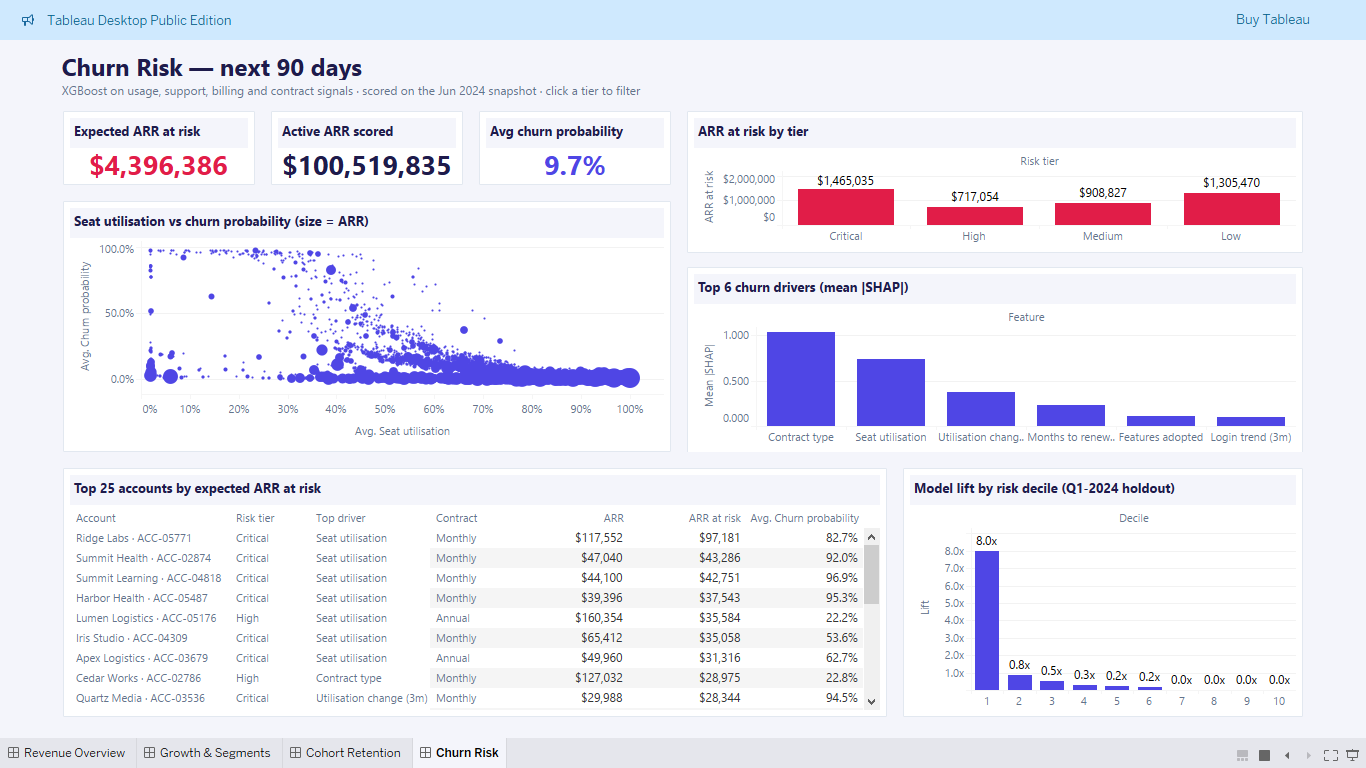

What the dashboard file says about the page in this screenshot:
{"tool":"tableau","page":{"name":"Churn Risk","canvas":[1280,690],"ordinal":3},"visuals":[{"type":"text","box":[16,7.7,900,28.8]},{"type":"text","box":[16,36.4,900,21.1]},{"type":"worksheet","title":"Risk ARR at risk","mark":"Text","box":[16,63.3,200,82.4]},{"type":"worksheet","title":"Risk active ARR","mark":"Text","box":[224,63.3,200,82.4]},{"type":"worksheet","title":"Risk avg prob","mark":"Text","box":[432,63.3,200,82.4]},{"type":"worksheet","title":"Risk by tier","mark":"Bar","rows":["arr_at_risk"],"cols":["risk_tier"],"box":[640,63.3,624,149.5]},{"type":"worksheet","title":"Utilisation vs risk","mark":"Circle","rows":["churn_probability"],"cols":["seat_utilisation"],"box":[16,153.3,616,258.8]},{"type":"worksheet","title":"Top churn drivers","mark":"Bar","rows":["mean_abs_shap"],"cols":["feature"],"box":[640,218.5,624,193.6]},{"type":"worksheet","title":"Accounts to save","mark":"Text","rows":["Account label","risk_tier","driver_1","contract_type"],"box":[16,419.7,832,256.8]},{"type":"worksheet","title":"Model lift","mark":"Bar","rows":["lift"],"cols":["bucket"],"box":[856,419.7,408,256.8]}]}

Visuals, with their boxes on the page's 1280x690 design canvas (x1, y1, x2, y2). These are canvas units, not pixel positions in the 1366x768 screenshot, which may show the page scaled, cropped or inside an application window:
text: <bbox>16, 8, 916, 36</bbox>
text: <bbox>16, 36, 916, 58</bbox>
"Risk ARR at risk" worksheet (Text marks): <bbox>16, 63, 216, 146</bbox>
"Risk active ARR" worksheet (Text marks): <bbox>224, 63, 424, 146</bbox>
"Risk avg prob" worksheet (Text marks): <bbox>432, 63, 632, 146</bbox>
"Risk by tier" worksheet (Bar marks): <bbox>640, 63, 1264, 213</bbox>
"Utilisation vs risk" worksheet (Circle marks): <bbox>16, 153, 632, 412</bbox>
"Top churn drivers" worksheet (Bar marks): <bbox>640, 218, 1264, 412</bbox>
"Accounts to save" worksheet (Text marks): <bbox>16, 420, 848, 676</bbox>
"Model lift" worksheet (Bar marks): <bbox>856, 420, 1264, 676</bbox>
